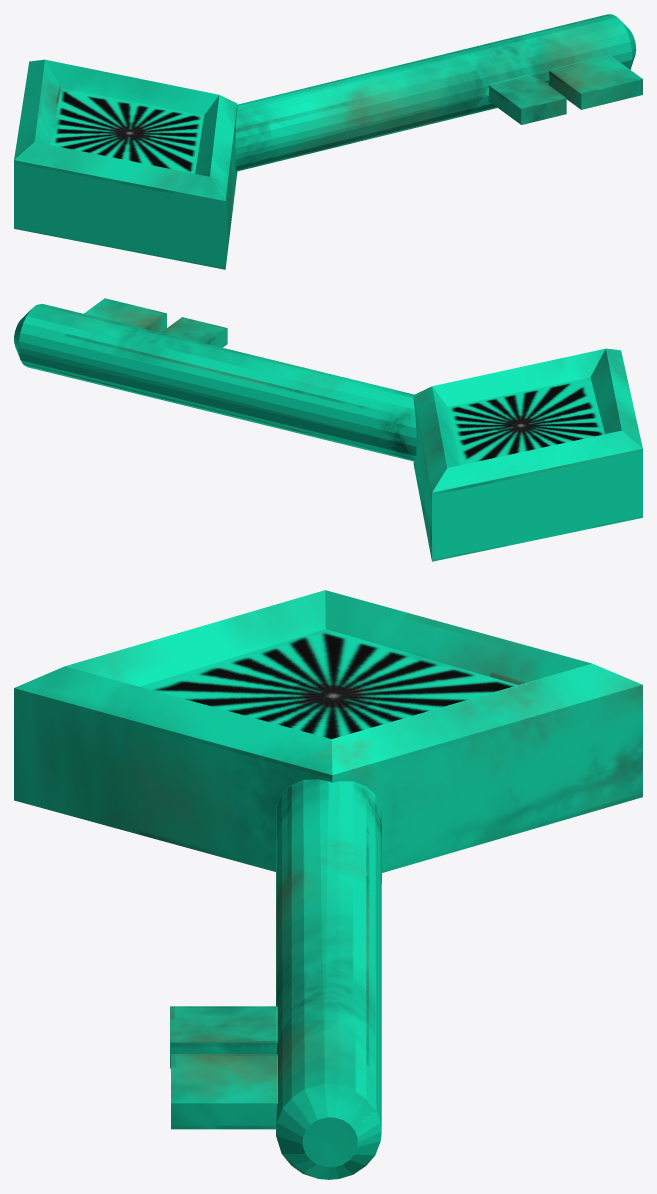
File: key3.obj
3 views of the same model, one above another, from view 1: azimuth 30°, elevation 25°; view 2: azimuth 150°, elevation 25°; view 3: azimuth 270°, elevation 25° (orthographic). The views are drawn at different scales.
Visible parts, largest first — view 1: Cylinder.002; view 2: Cylinder.002; view 3: Cylinder.002.
Part boxes in pixels (x1,y1,x2,y2): Cylinder.002: (14, 14, 642, 269); Cylinder.002: (14, 298, 642, 561); Cylinder.002: (14, 590, 642, 1179).
Bounding box in the file's own units: 5.23 × 0.6639 × 2.83.
